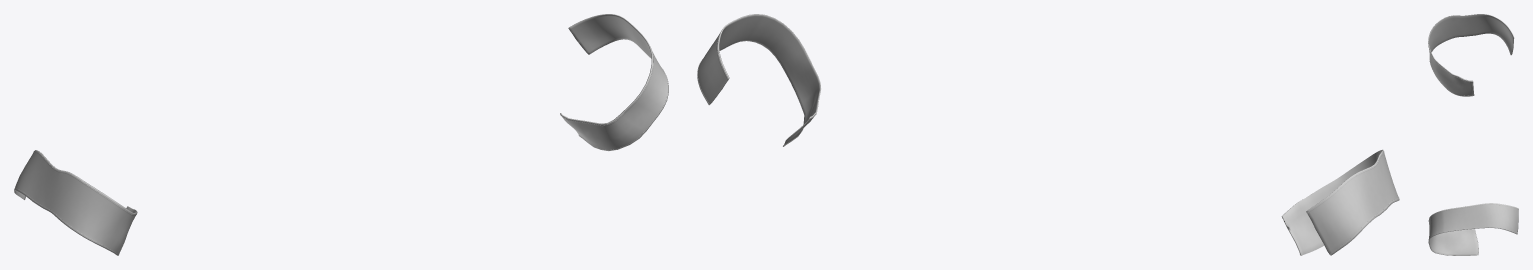
The model's file is Jac_COP_Hands_LIM.glb.
3 views of the same model, side by side, from view 1: azimuth 30°, elevation 25°; view 2: azimuth 150°, elevation 25°; view 3: azimuth 270°, elevation 25° (orthographic). The views are drawn at different scales.
Parts seen in each view (by area): view 1: Jac_COP_Hands_LIM1, Rope1; view 2: Jac_COP_Hands_LIM1, Rope1; view 3: Jac_COP_Hands_LIM1, Rope1.
Boxes of the visible parts, bbox=[...] form: Jac_COP_Hands_LIM1: bbox=[14, 14, 668, 255]; Rope1: bbox=[14, 43, 668, 255]; Jac_COP_Hands_LIM1: bbox=[697, 14, 1399, 255]; Rope1: bbox=[697, 29, 1399, 254]; Jac_COP_Hands_LIM1: bbox=[1428, 14, 1518, 255]; Rope1: bbox=[1428, 41, 1518, 242].
Size of the model in its own units: 1.13 by 0.1927 by 0.2208.
2 materials, 2 textured.
